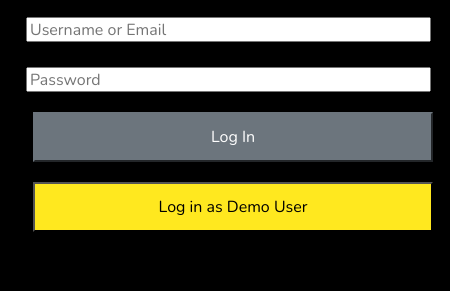
Test: LoginFormModal › shows no messages until the user types, then explains the rule
Check: the button "Log In" is disabled, box x1=33 y1=112 x2=433 y2=162
Check: the text "4 characters or more" is not shown
Step 1. Type "ab" into the field labelled "Username or Email" → (228, 30), box x1=26 y1=17 x2=431 y2=42
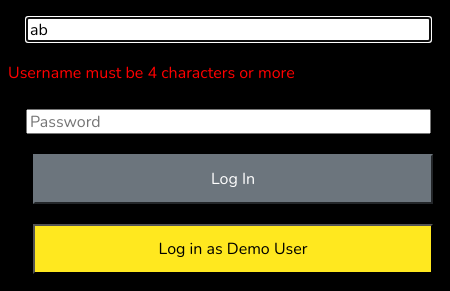
Check: the text "Username must be 4 characters or more" is shown, box x1=8 y1=62 x2=295 y2=84
